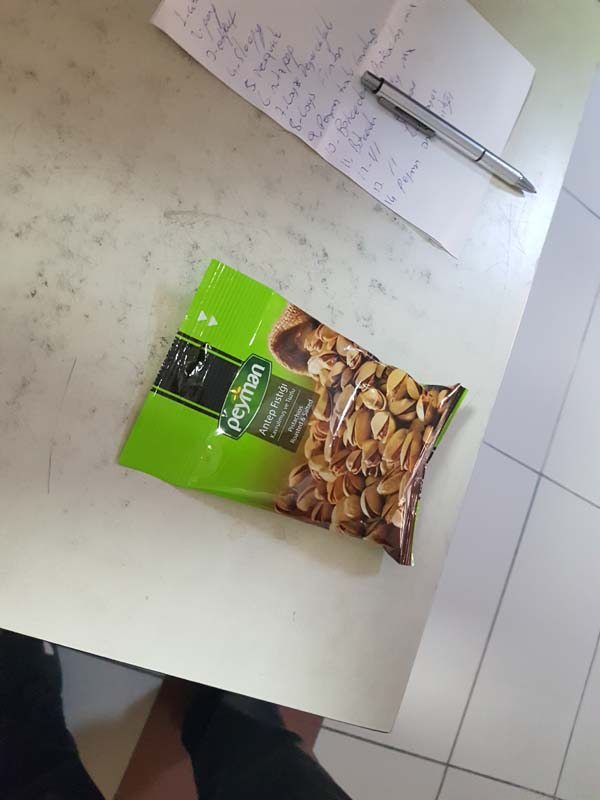antepfistigi: (114, 257, 475, 572)
